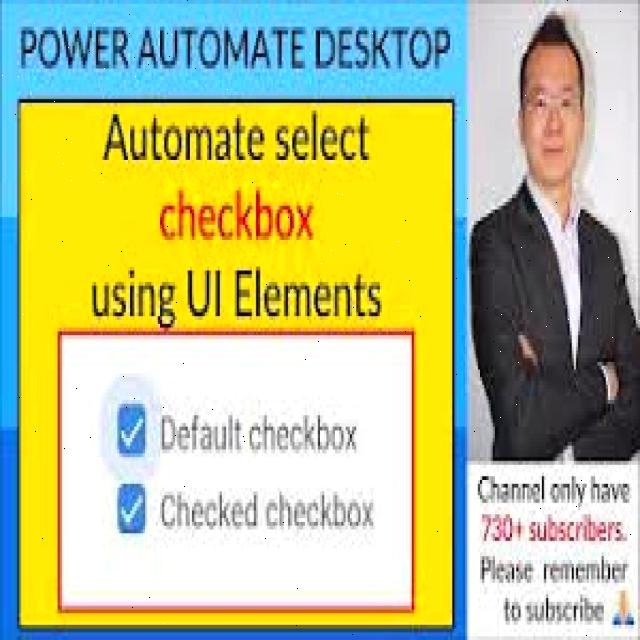checkbox: (117, 404, 147, 456), (117, 484, 146, 534)
label: (156, 486, 384, 534), (155, 408, 370, 458)
